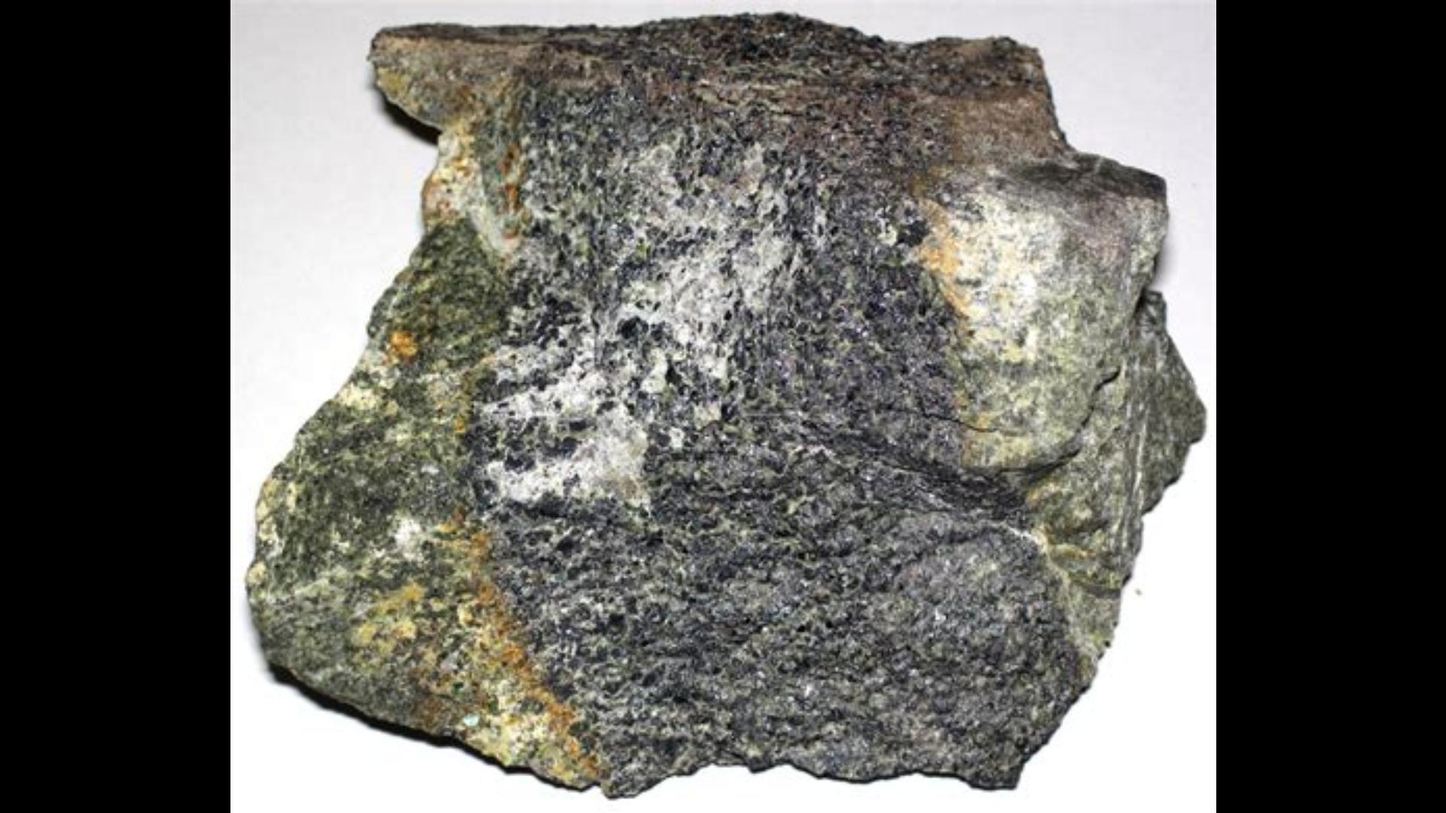rock: (248, 17, 1197, 792)
